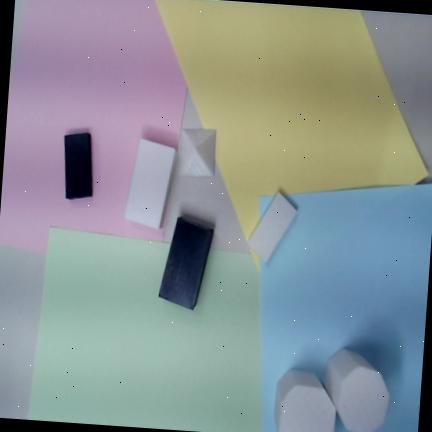Paralelepipedo: (158, 216, 213, 311), (124, 137, 176, 229), (248, 191, 296, 262), (64, 132, 92, 199)
Piramide: (177, 128, 216, 176)
Prisma_hexagonal: (323, 347, 390, 432), (273, 368, 335, 432)
